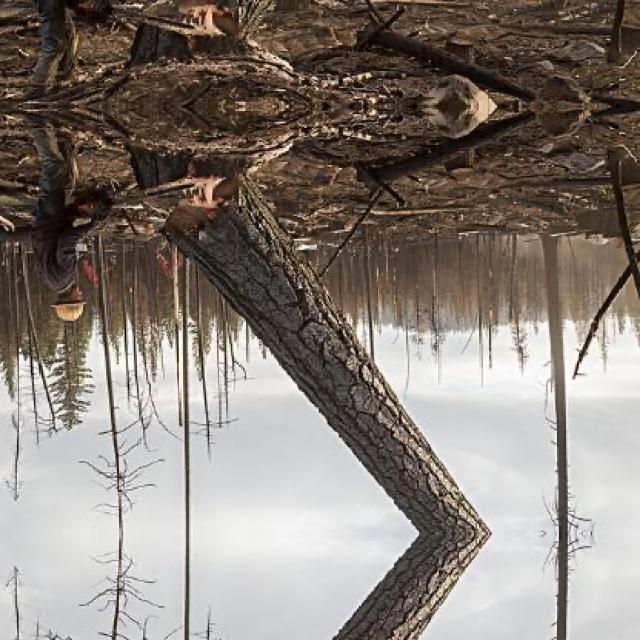con casco: (53, 264, 93, 348)
